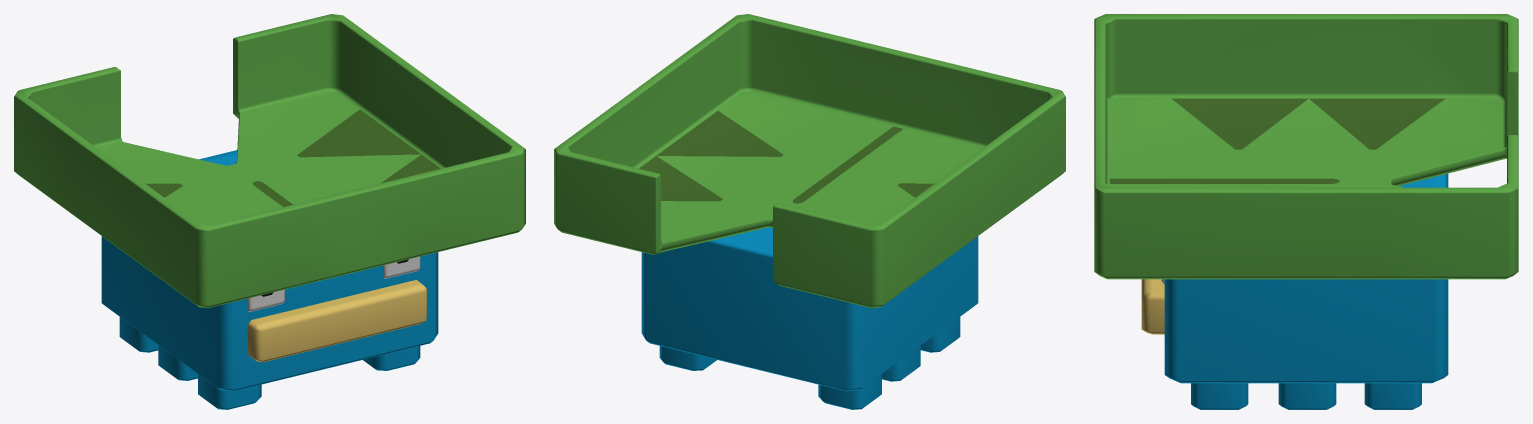
3 views of the same model, side by side, from view 1: azimuth 30°, elevation 25°; view 2: azimuth 150°, elevation 25°; view 3: azimuth 270°, elevation 25° (orthographic). The views are drawn at different scales.
Visible parts, largest first — view 1: model; view 2: model; view 3: model.
Boxes of the visible parts, left/top/right/bottom form: model: left=14, top=14, right=525, bottom=409; model: left=554, top=14, right=1065, bottom=409; model: left=1094, top=14, right=1518, bottom=409.
Size of the model in its own units: 1.66 by 1.1 by 1.67.
